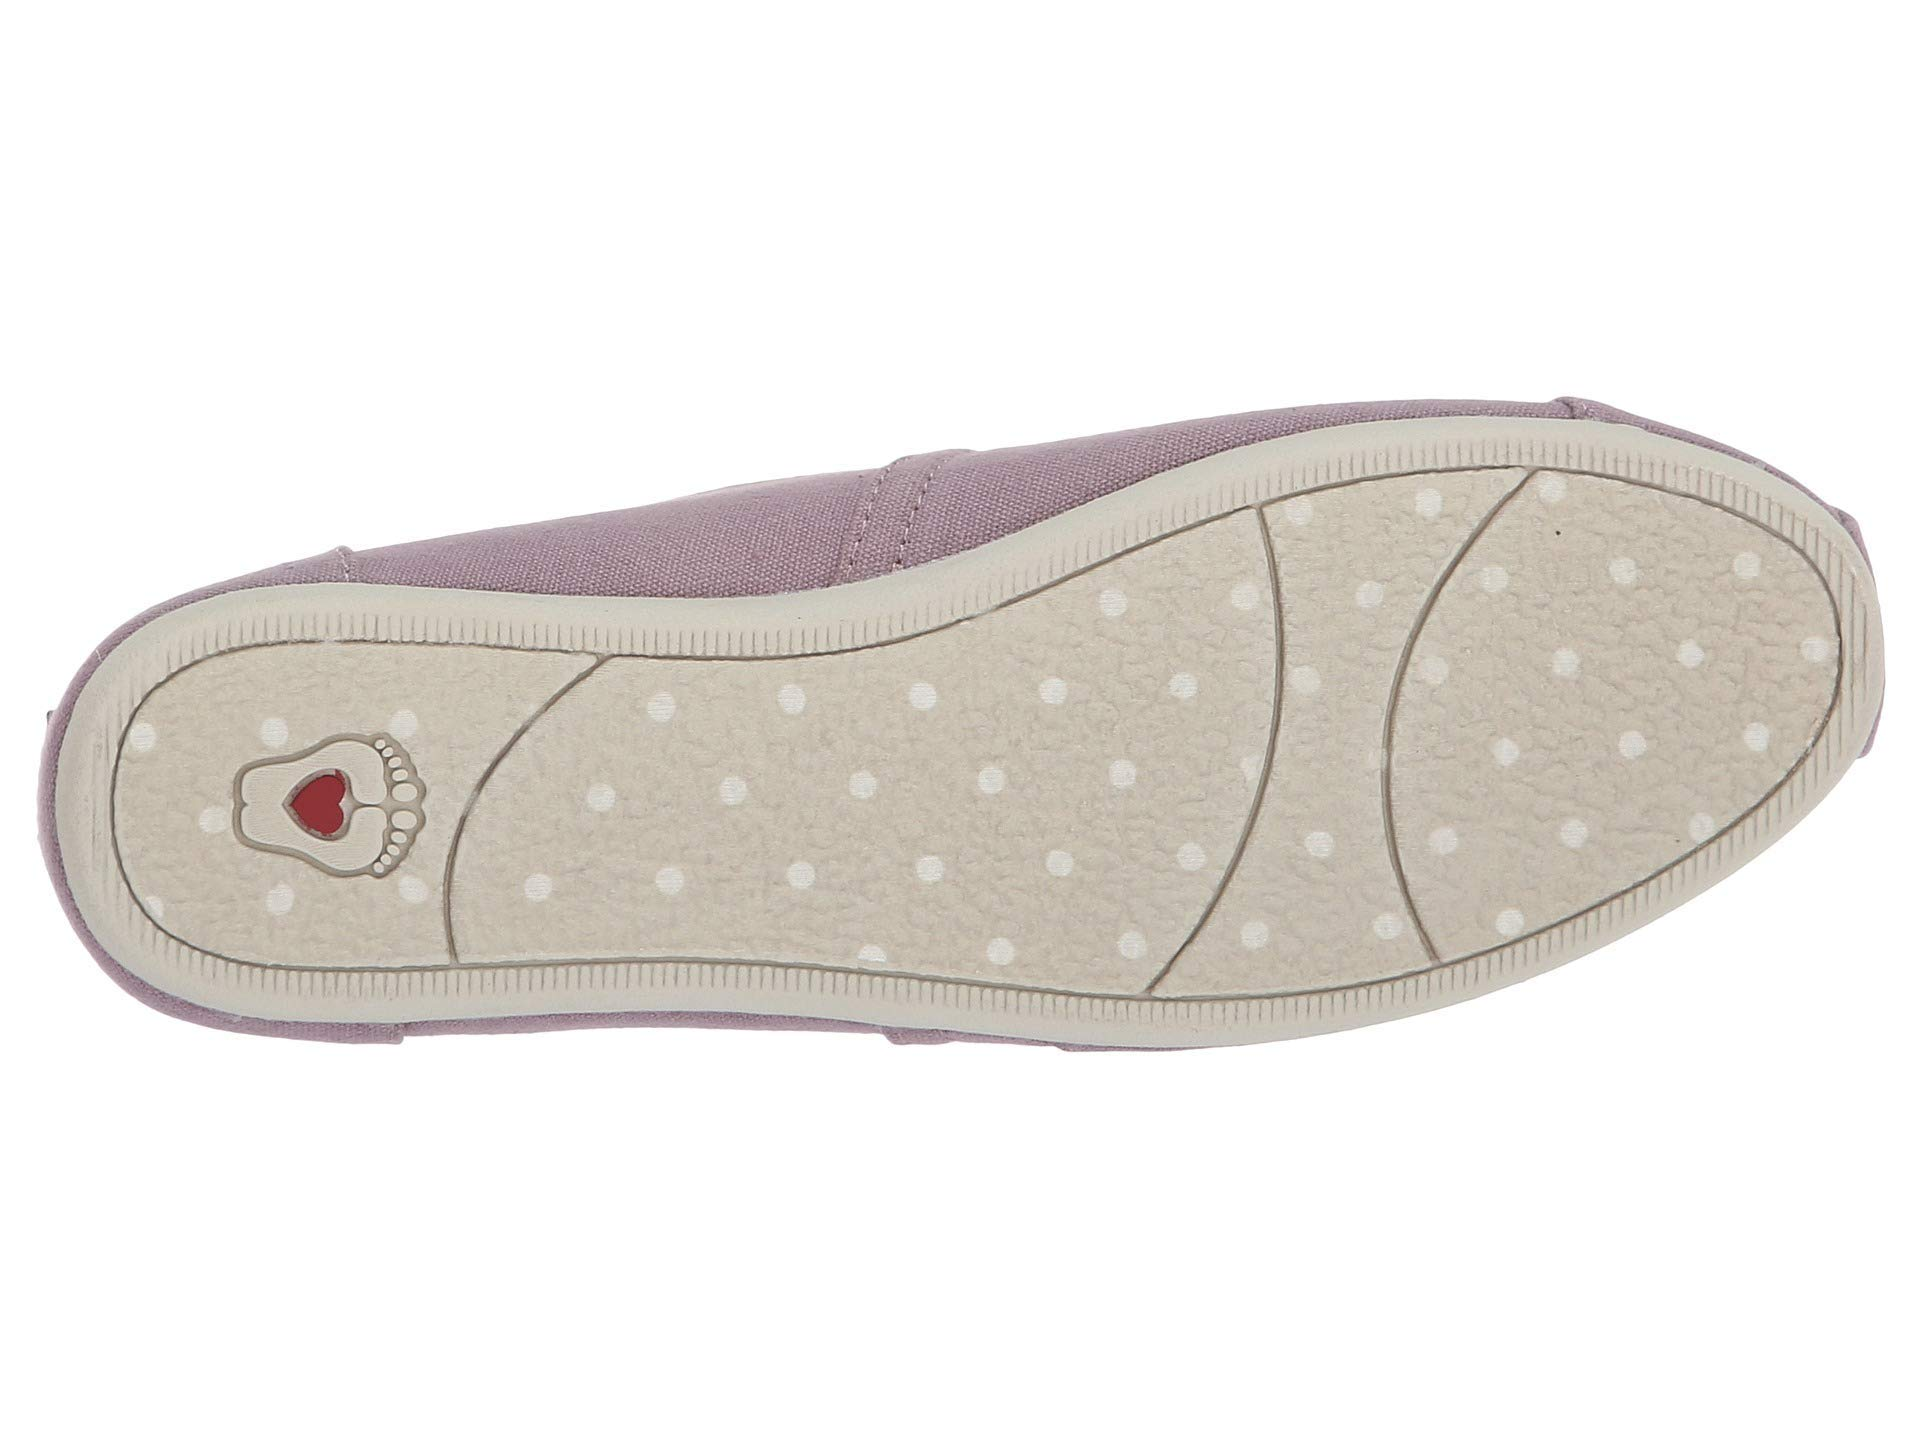chevron: (209, 687, 475, 920)
circle: (1194, 551, 1557, 947), (605, 663, 993, 970), (209, 687, 475, 920)
line: (1194, 551, 1557, 947), (209, 687, 475, 920)
